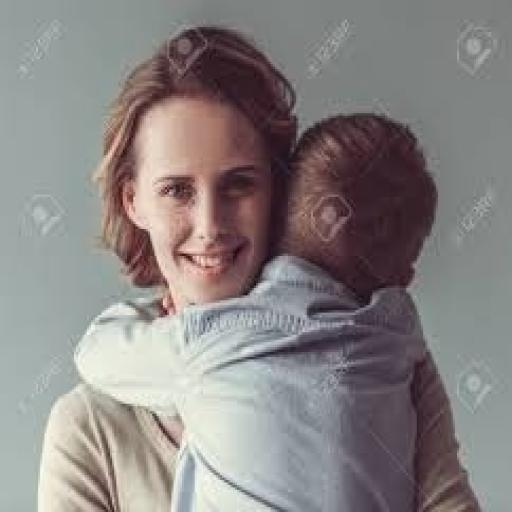hugging: (32, 22, 499, 510)
